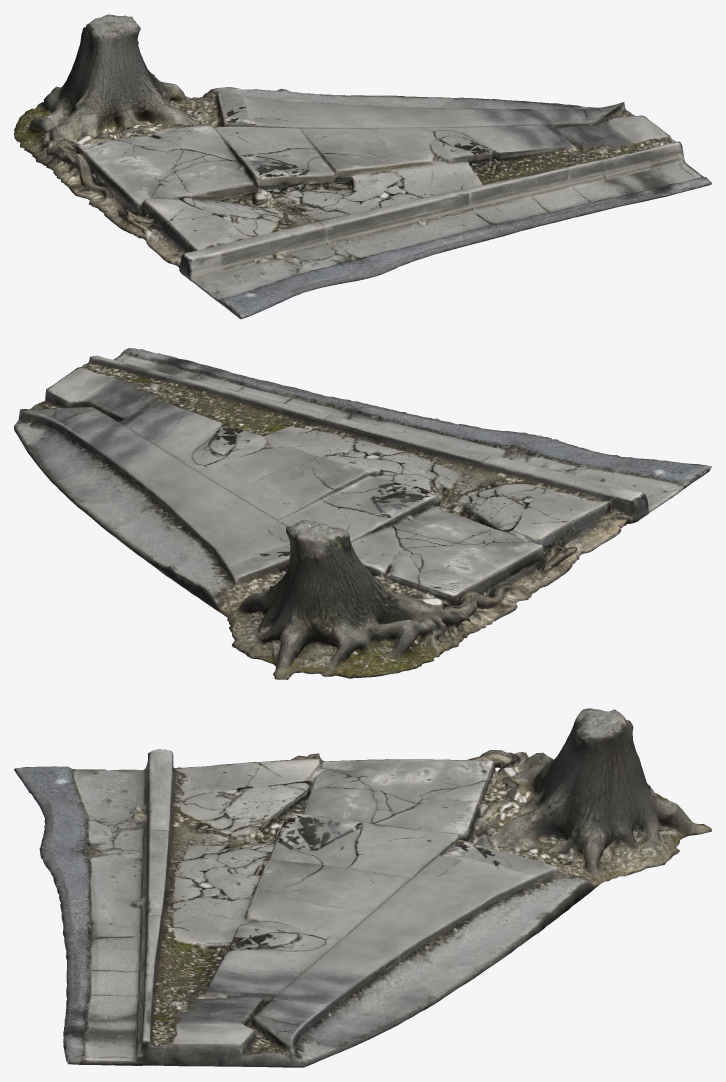
The model's file is uneven_4.glb.
3 renders of one model, top to bottom at view 1: azimuth 30°, elevation 25°; view 2: azimuth 150°, elevation 25°; view 3: azimuth 270°, elevation 25°, orthographic. The views are drawn at different scales.
Visible parts, largest first — view 1: Mesh1.0; view 2: Mesh1.0; view 3: Mesh1.0.
Part boxes in pixels (bbox=[...]): Mesh1.0: bbox=[14, 14, 711, 319]; Mesh1.0: bbox=[14, 348, 711, 679]; Mesh1.0: bbox=[14, 708, 711, 1067].
Size of the model in its own units: 1.91 by 0.3659 by 1.9.
1 material, 1 textured.
